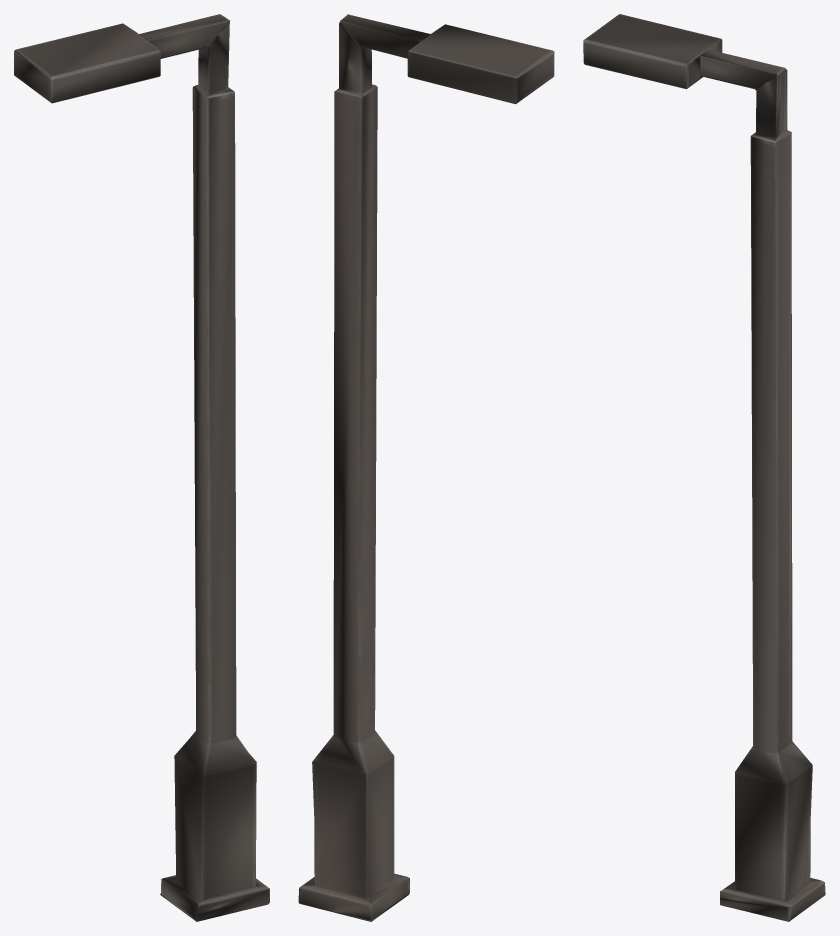
The model's file is street_lamp.fbx.
3 renders of one model, left to right at view 1: azimuth 30°, elevation 25°; view 2: azimuth 150°, elevation 25°; view 3: azimuth 330°, elevation 25°, orthographic. The views are drawn at different scales.
Visible parts, largest first — view 1: Mesh_0; view 2: Mesh_0; view 3: Mesh_0.
Boxes of the visible parts, left/top/right/bottom form: Mesh_0: left=14, top=14, right=269, bottom=921; Mesh_0: left=298, top=14, right=554, bottom=921; Mesh_0: left=583, top=14, right=825, bottom=921.
Bounding box in the file's own units: 24.8 × 95.26 × 7.71.
1 material, 1 textured.
